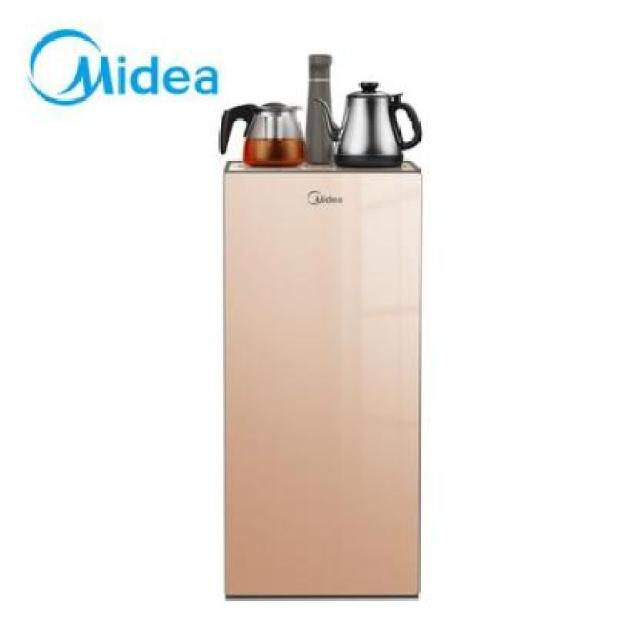cooler: (218, 48, 428, 605)
